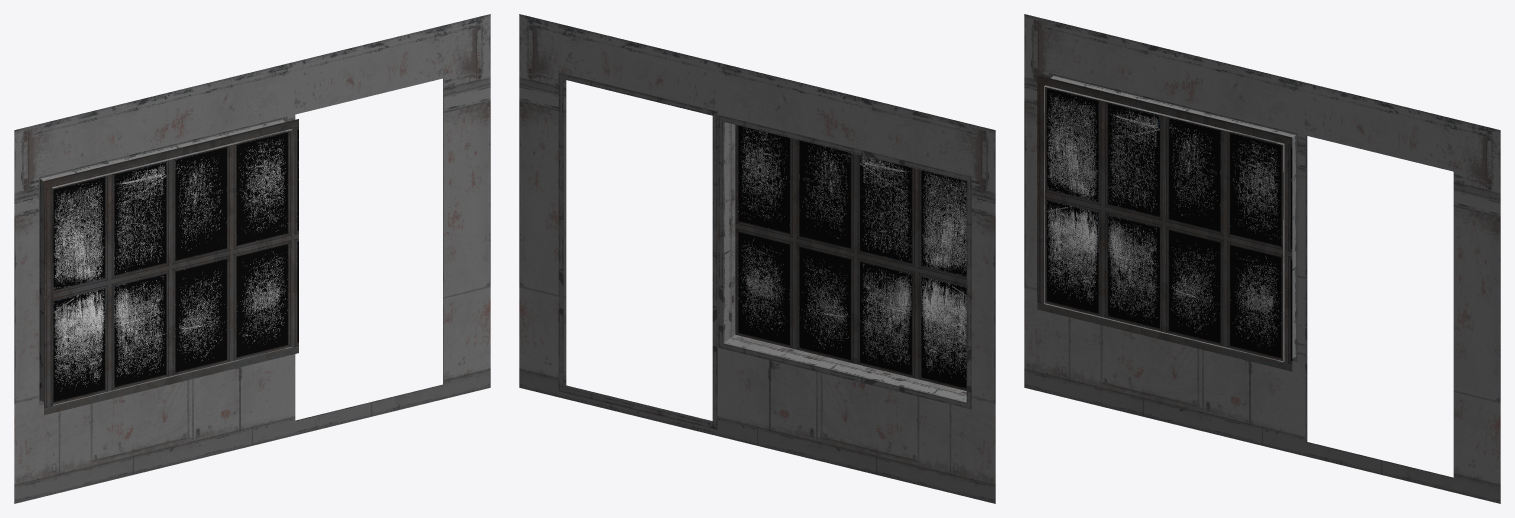
The model's file is ARC0910216.fbx.
The picture shows the model from 3 angles, left to right: view 1: azimuth 30°, elevation 25°; view 2: azimuth 150°, elevation 25°; view 3: azimuth 330°, elevation 25°; orthographic projection.
Visible parts, largest first — view 1: smARC0910216; view 2: smARC0910216; view 3: smARC0910216.
Boxes of the visible parts, left/top/right/bottom form: smARC0910216: left=14, top=14, right=490, bottom=503; smARC0910216: left=519, top=14, right=995, bottom=503; smARC0910216: left=1024, top=14, right=1500, bottom=503.
Bounding box in the file's own units: 400 × 300 × 16.53.
1 material, 1 textured.
